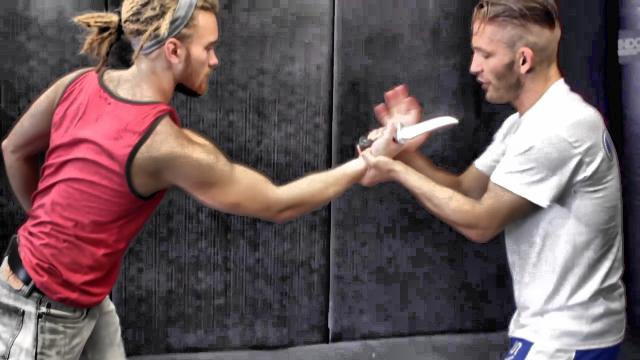knife: (352, 106, 462, 152)
